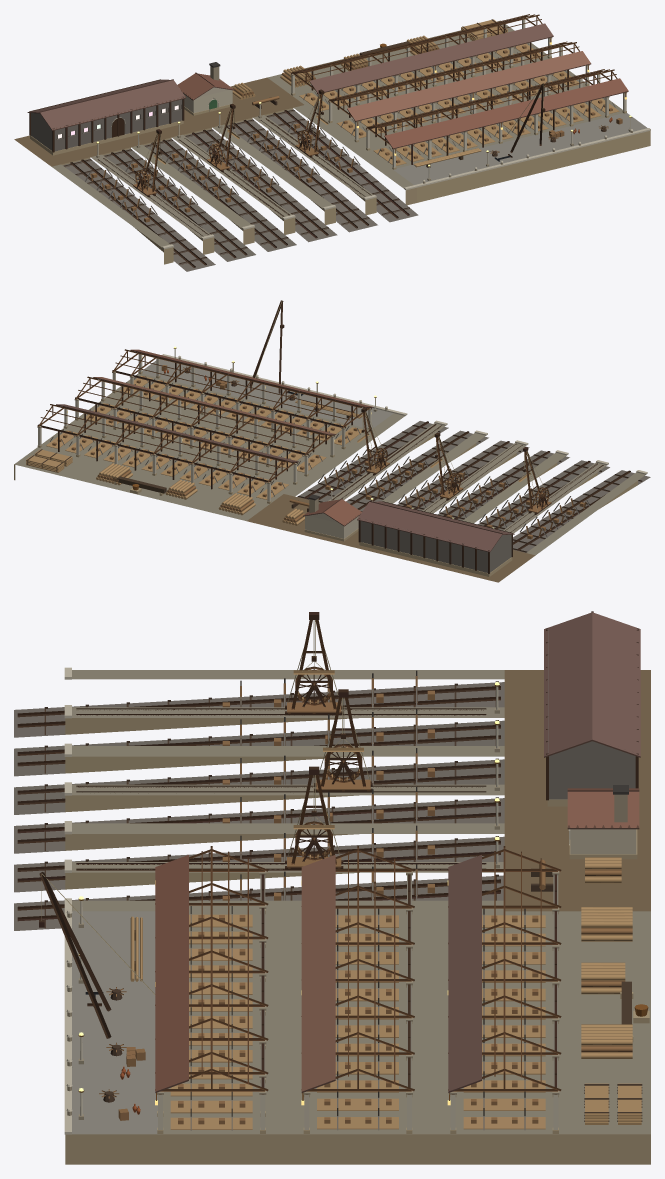
The model's file is shipyard.glb.
3 renders of one model, top to bottom at view 1: azimuth 30°, elevation 25°; view 2: azimuth 150°, elevation 25°; view 3: azimuth 270°, elevation 25°, orthographic. The views are drawn at different scales.
Visible parts, largest first — view 1: shipyard_body, crane_0, crane_1, crane_2; view 2: shipyard_body, crane_2, crane_0, crane_1; view 3: shipyard_body, crane_0, crane_1, crane_2.
Boxes of the visible parts, left/top/right/bottom form: shipyard_body: left=14, top=14, right=650, bottom=271; crane_0: left=133, top=129, right=165, bottom=197; crane_1: left=206, top=103, right=239, bottom=171; crane_2: left=295, top=89, right=328, bottom=157; shipyard_body: left=14, top=300, right=650, bottom=582; crane_2: left=357, top=407, right=389, bottom=475; crane_0: left=518, top=447, right=551, bottom=514; crane_1: left=430, top=432, right=463, bottom=500; shipyard_body: left=14, top=611, right=650, bottom=1164; crane_0: left=285, top=612, right=343, bottom=715; crane_1: left=314, top=689, right=372, bottom=792; crane_2: left=285, top=766, right=343, bottom=869.
Size of the model in its own units: 150 by 27.71 by 87.
